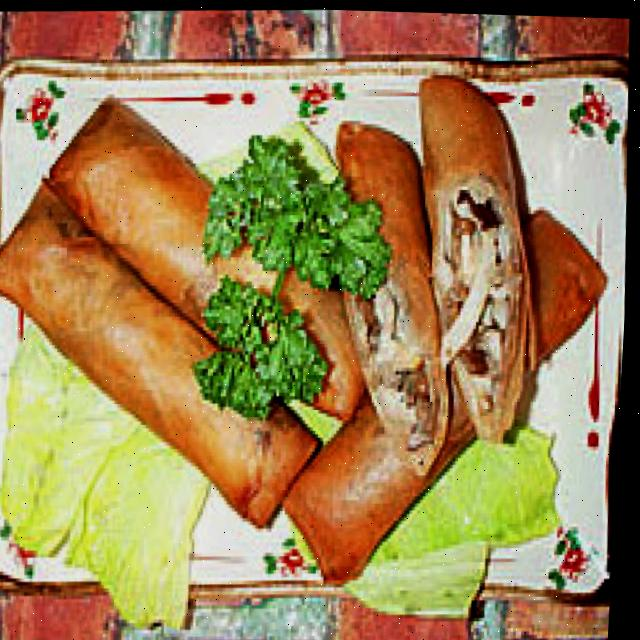鸡蛋料理: (0, 58, 638, 617)
